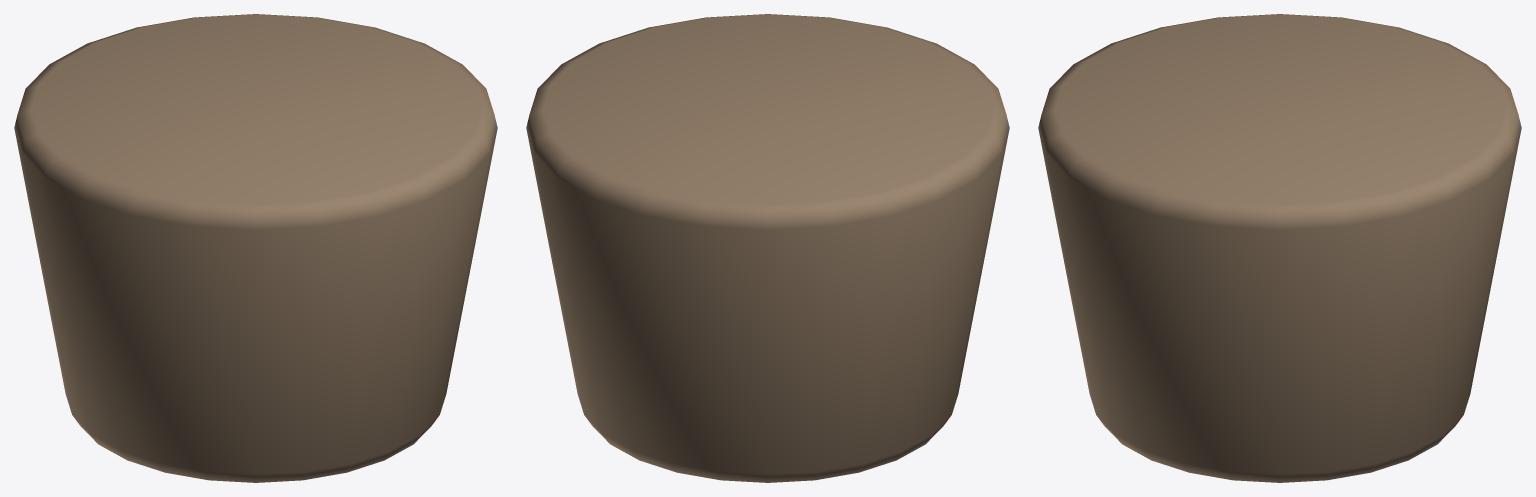
The model's file is PentagonCork.fbx.
3 views of the same model, side by side, from view 1: azimuth 30°, elevation 25°; view 2: azimuth 150°, elevation 25°; view 3: azimuth 270°, elevation 25° (orthographic).
Visible parts, largest first — view 1: PentagonLid; view 2: PentagonLid; view 3: PentagonLid.
Part boxes in pixels (left/top/right/bottom): PentagonLid: left=14, top=14, right=497, bottom=482; PentagonLid: left=526, top=14, right=1009, bottom=482; PentagonLid: left=1038, top=14, right=1521, bottom=482.
Bounding box in the file's own units: 58.6 × 40.35 × 58.6.
